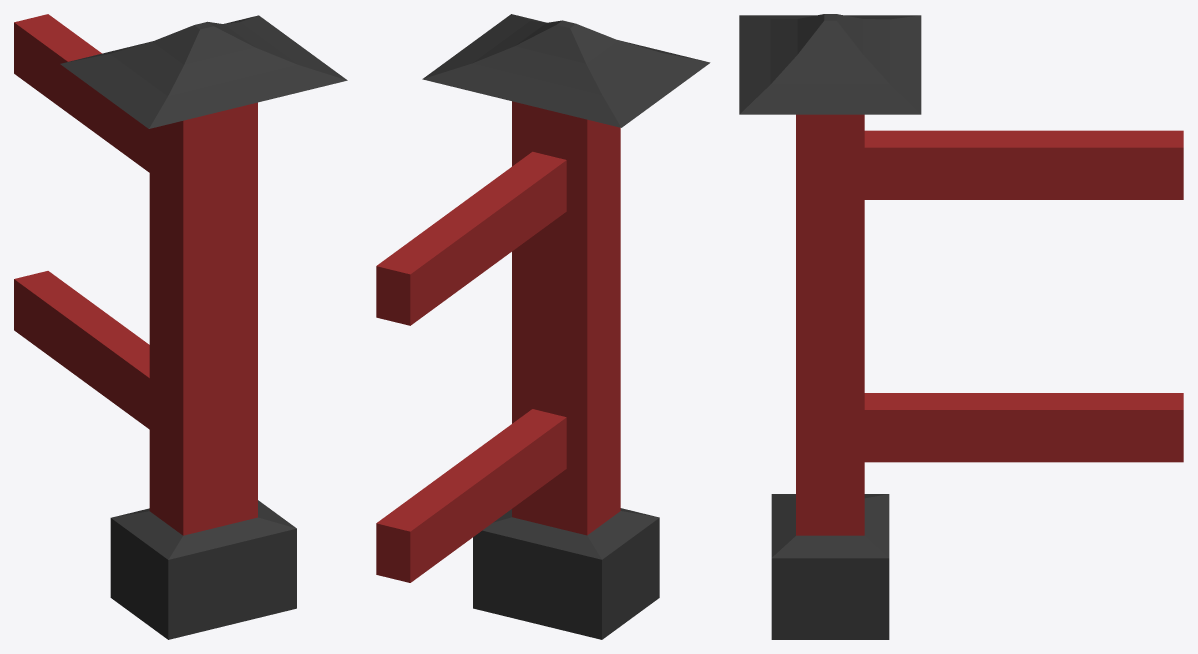
The model's file is Asian_Prop_Torii_Gate_Railing_01.FBX.
3 views of the same model, side by side, from view 1: azimuth 30°, elevation 25°; view 2: azimuth 150°, elevation 25°; view 3: azimuth 270°, elevation 25° (orthographic). The views are drawn at different scales.
Parts seen in each view (by area): view 1: Asian_Prop_Torii_Gate_Railing_01; view 2: Asian_Prop_Torii_Gate_Railing_01; view 3: Asian_Prop_Torii_Gate_Railing_01.
Part boxes in pixels (x1,y1,x2,y2): Asian_Prop_Torii_Gate_Railing_01: (14,14,347,639); Asian_Prop_Torii_Gate_Railing_01: (376,14,710,639); Asian_Prop_Torii_Gate_Railing_01: (739,14,1183,639).
Size of the model in its own units: 1243 by 3446 by 2350.
